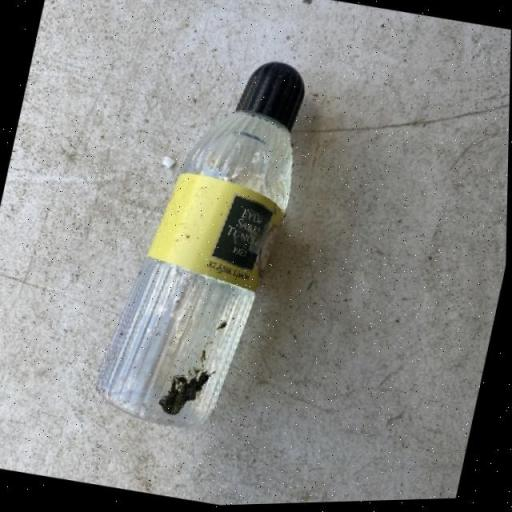plastic: (91, 40, 319, 442)
